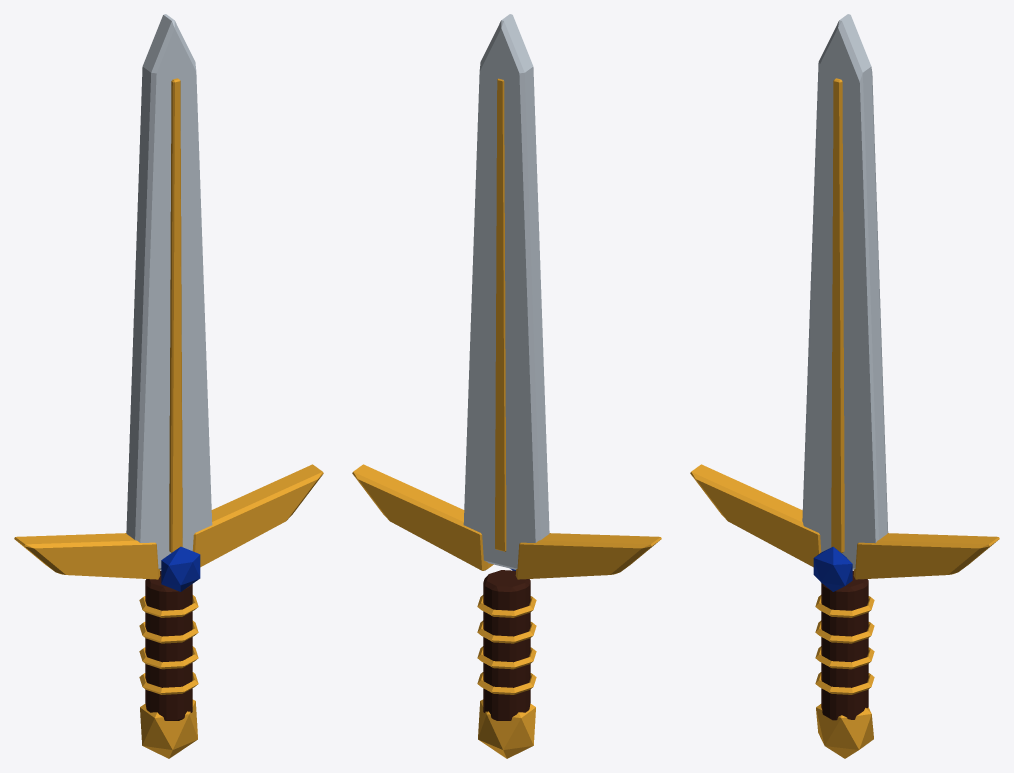
The model's file is holy_sword_gram.obj.
3 renders of one model, left to right at view 1: azimuth 30°, elevation 25°; view 2: azimuth 150°, elevation 25°; view 3: azimuth 330°, elevation 25°, orthographic.
Visible parts, largest first — view 1: HolyGram_Blade.001_MAT_WhiteHoly, HolyGram_Fuller.001_MAT_BrightGold, HolyGram_GuardR.001_MAT_BrightGold, HolyGram_GuardL.001_MAT_BrightGold, HolyGram_Grip.001_MAT_Leather, HolyGram_Pommel.001_MAT_BrightGold, HolyGram_Gem.001_MAT_Sapphire; view 2: HolyGram_Blade.001_MAT_WhiteHoly, HolyGram_Grip.001_MAT_Leather, HolyGram_GuardR.001_MAT_BrightGold, HolyGram_GuardL.001_MAT_BrightGold, HolyGram_Fuller.001_MAT_BrightGold, HolyGram_Pommel.001_MAT_BrightGold; view 3: HolyGram_Blade.001_MAT_WhiteHoly, HolyGram_Fuller.001_MAT_BrightGold, HolyGram_GuardL.001_MAT_BrightGold, HolyGram_Grip.001_MAT_Leather, HolyGram_GuardR.001_MAT_BrightGold, HolyGram_Pommel.001_MAT_BrightGold, HolyGram_Gem.001_MAT_Sapphire.
Part boxes in pixels (box(x1,y1,x2,y2)): HolyGram_Blade.001_MAT_WhiteHoly: box(126, 14, 212, 569); HolyGram_Fuller.001_MAT_BrightGold: box(169, 78, 182, 552); HolyGram_GuardR.001_MAT_BrightGold: box(192, 464, 323, 567); HolyGram_GuardL.001_MAT_BrightGold: box(14, 533, 160, 579); HolyGram_Grip.001_MAT_Leather: box(145, 570, 192, 720); HolyGram_Pommel.001_MAT_BrightGold: box(140, 699, 197, 758); HolyGram_Gem.001_MAT_Sapphire: box(161, 546, 200, 591); HolyGram_Blade.001_MAT_WhiteHoly: box(463, 14, 549, 569); HolyGram_Grip.001_MAT_Leather: box(483, 570, 530, 720); HolyGram_GuardR.001_MAT_BrightGold: box(352, 464, 493, 570); HolyGram_GuardL.001_MAT_BrightGold: box(515, 533, 661, 579); HolyGram_Fuller.001_MAT_BrightGold: box(495, 78, 506, 551); HolyGram_Pommel.001_MAT_BrightGold: box(478, 699, 535, 758); HolyGram_Blade.001_MAT_WhiteHoly: box(802, 14, 888, 569); HolyGram_Fuller.001_MAT_BrightGold: box(831, 78, 844, 552); HolyGram_GuardL.001_MAT_BrightGold: box(690, 464, 821, 567); HolyGram_Grip.001_MAT_Leather: box(821, 570, 868, 720); HolyGram_GuardR.001_MAT_BrightGold: box(853, 533, 999, 579); HolyGram_Pommel.001_MAT_BrightGold: box(816, 704, 873, 758); HolyGram_Gem.001_MAT_Sapphire: box(813, 546, 852, 591).
Bounding box in the file's own units: 2.2 × 5.2 × 0.4216.
